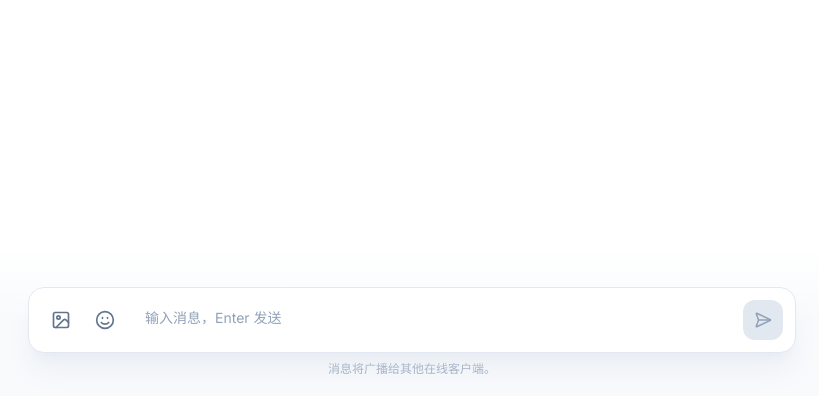
Test: ChatInput › should show emoji picker when clicking emoji button
Click the button named "表情符号": (105, 320) [85, 300, 125, 340]
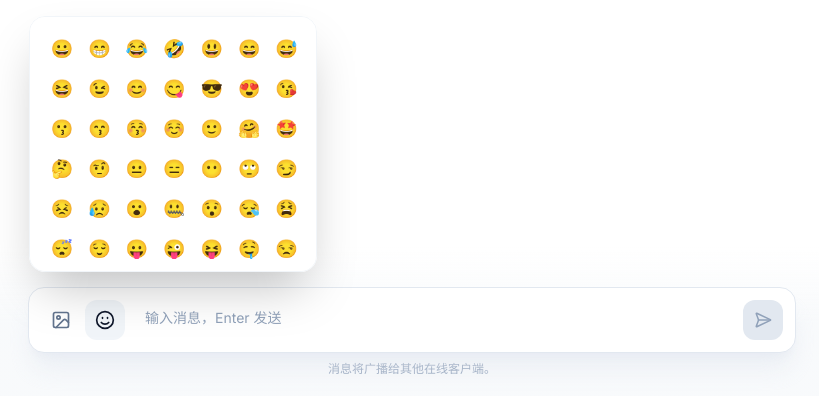
Now the button "😀" is shown, box [46, 33, 78, 65]
